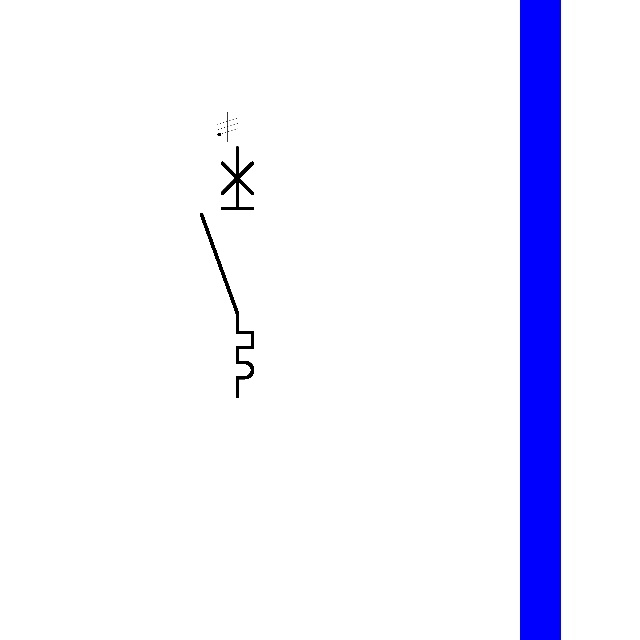interruptor_termomagnetico: (195, 141, 259, 402)
